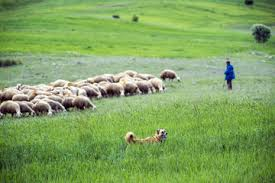sheep: (72, 95, 98, 111), (1, 100, 23, 118), (159, 68, 180, 84), (150, 74, 166, 95), (34, 101, 54, 117), (19, 101, 36, 117), (105, 82, 123, 97), (82, 85, 100, 97), (123, 81, 138, 95), (135, 80, 150, 93), (52, 101, 68, 113)
